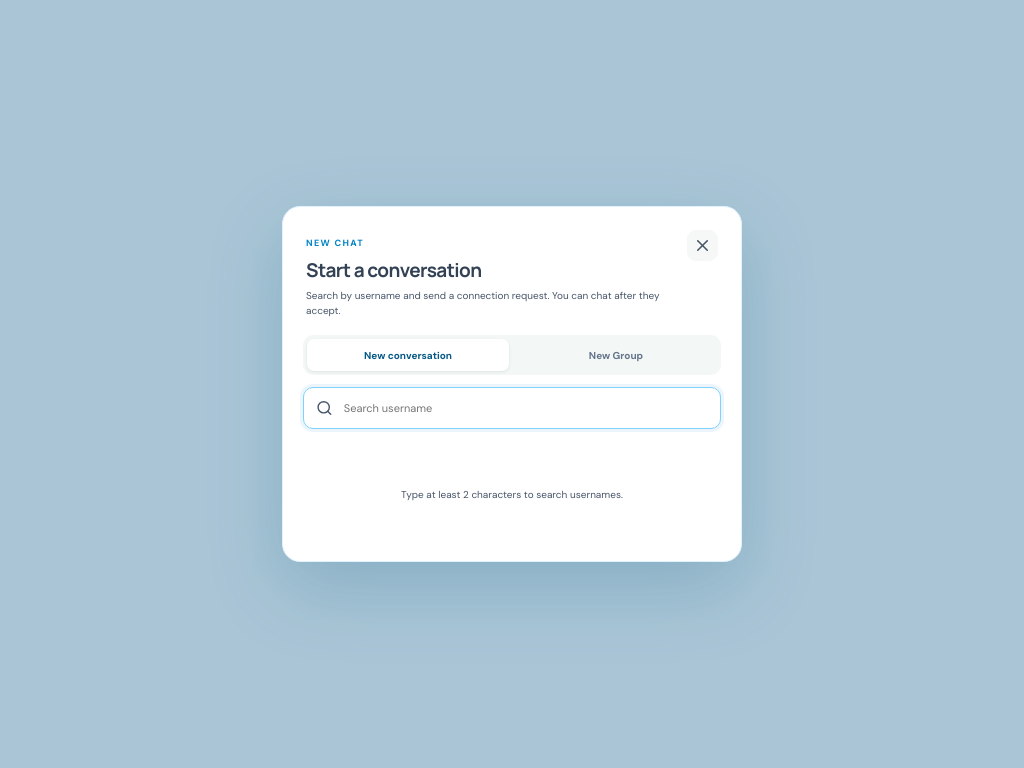
NewConversationDialog › validates the group name and minimum participant count
Click the button "New Group" at (616, 355), box [515,339,717,371]
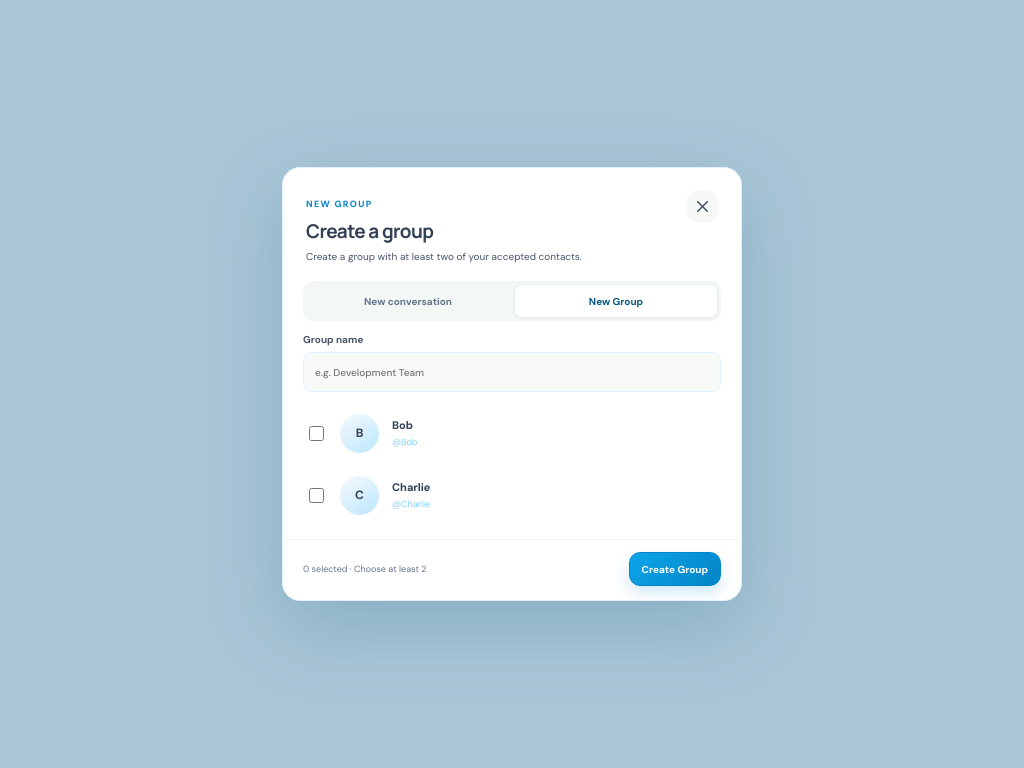
Click the button "Create Group" at (675, 569), box [629,552,721,586]
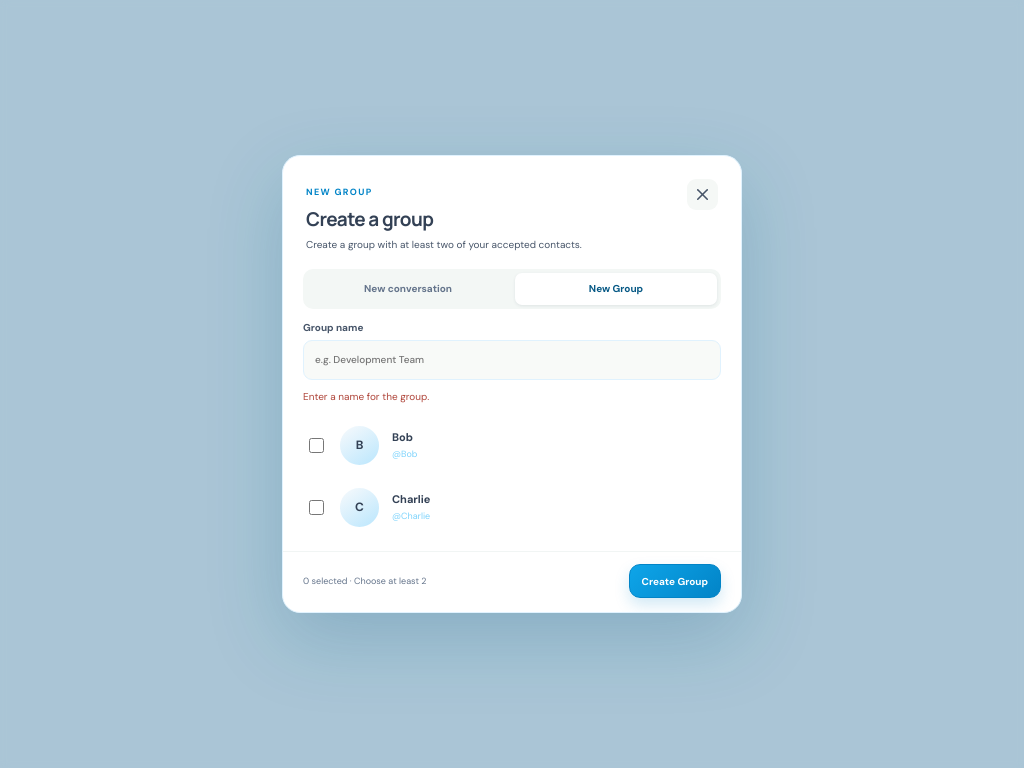
Result: the message shows "Enter a name" at [303,390,429,403]
Type "Development Team" into the field labelled "Group name" at (512, 360), box [303,340,721,380]
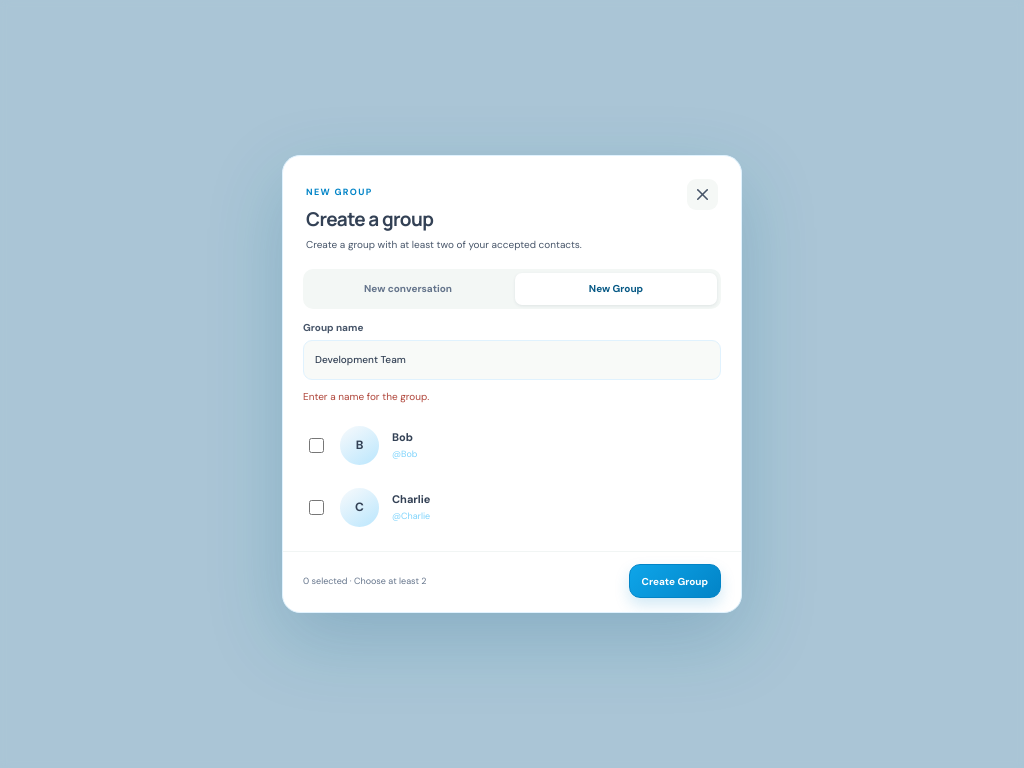
Click the checkbox labelled "Bob" at (316, 445), box [309,438,324,453]
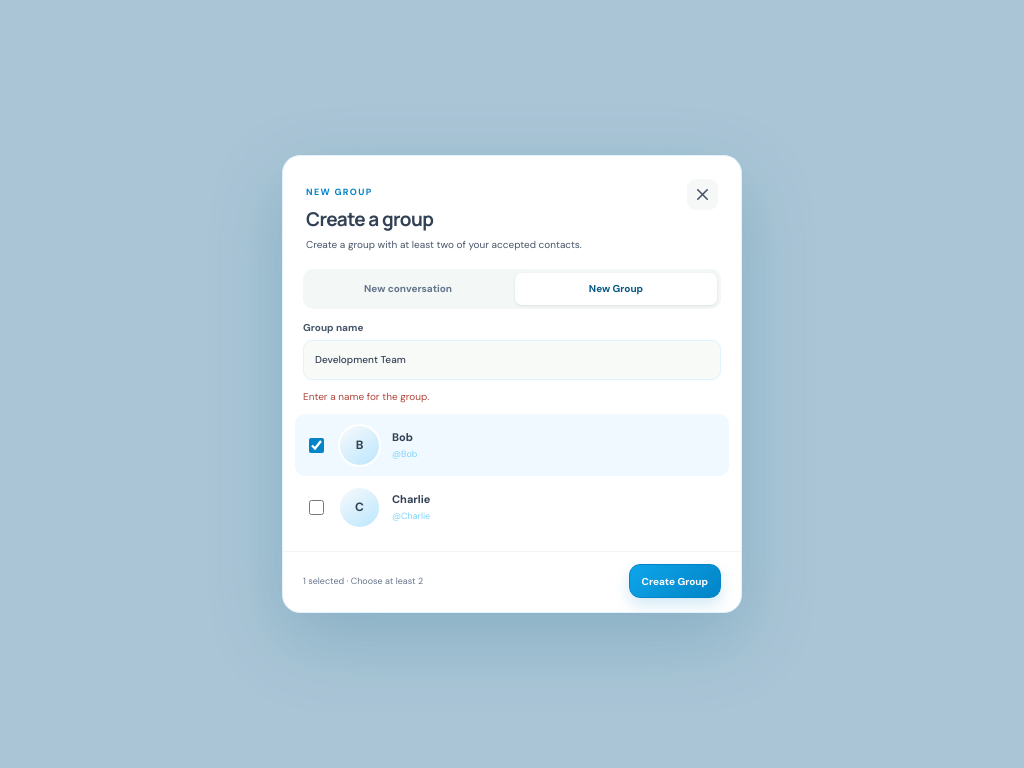
Click the button "Create Group" at (675, 581), box [629,564,721,598]
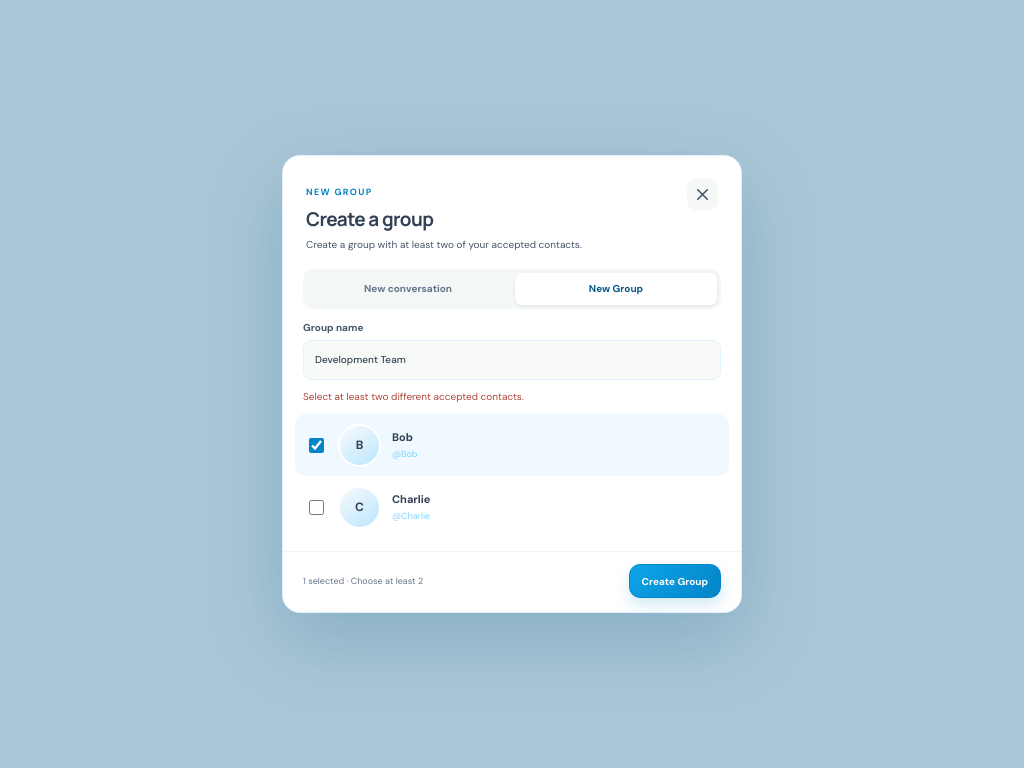
Result: the message shows "at least two" at [303,390,524,403]
